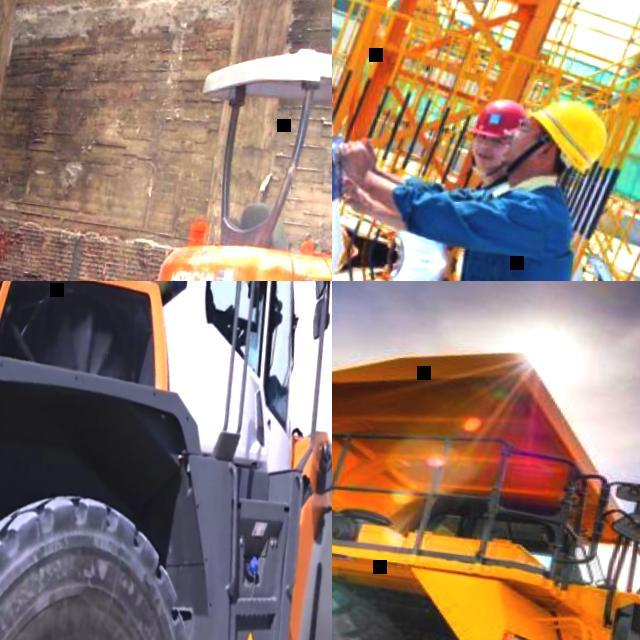helmet: (524, 92, 615, 175), (470, 94, 530, 137)
